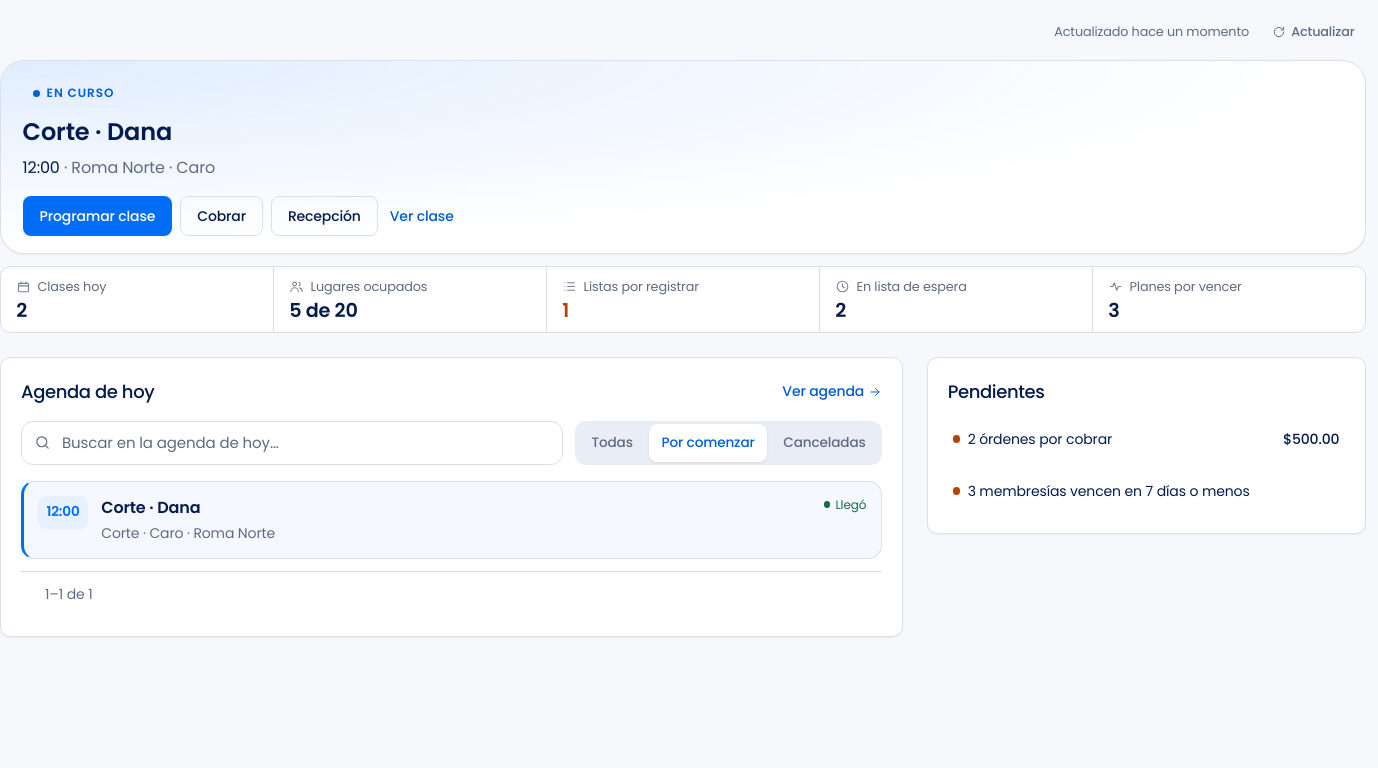
Test: el día de hoy en el Inicio › indicadores, agenda con lo que falta marcar y pendientes
Click the button "Todas": [612, 443] box [579,424,646,462]
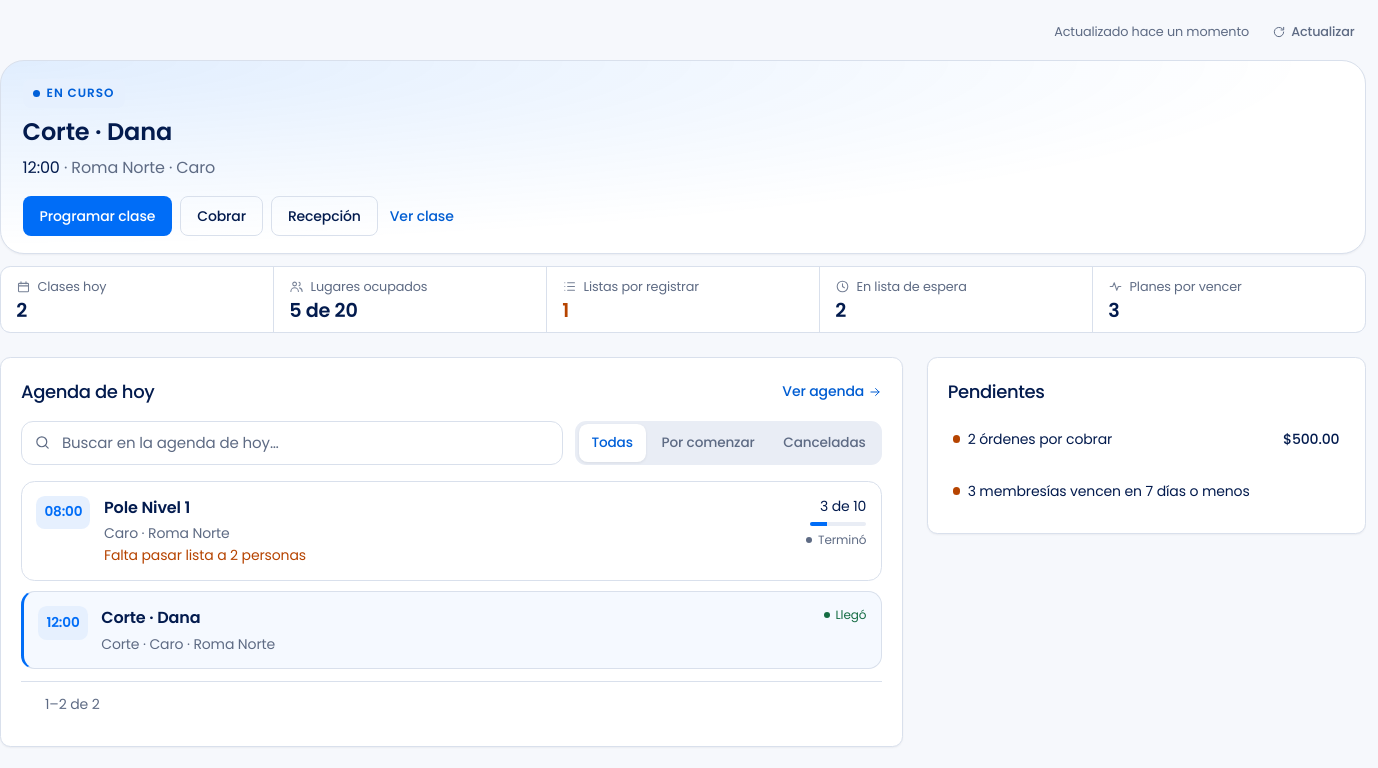
expect the text "08:00" is shown: met, box [36,496,90,529]
expect the text "Falta pasar lista a 2 personas" is shown: met, box [104,545,306,565]
expect the text "3 de 10" is shown: met, box [820,496,866,516]
